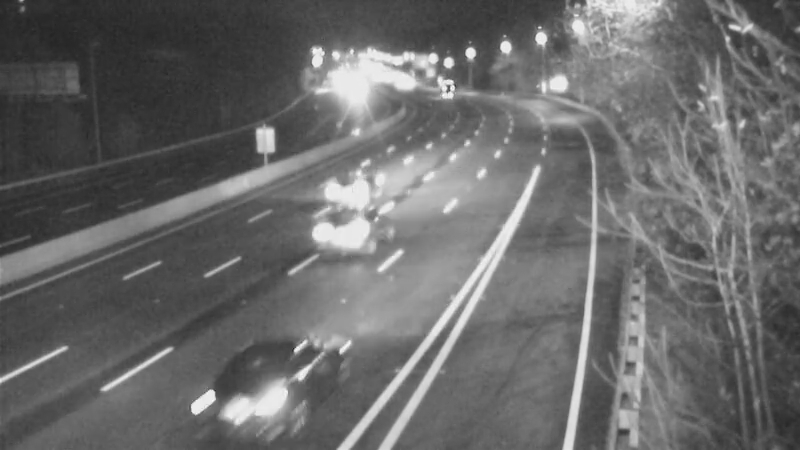vehicle: (186, 347, 296, 450), (301, 150, 381, 230), (302, 196, 382, 276)
